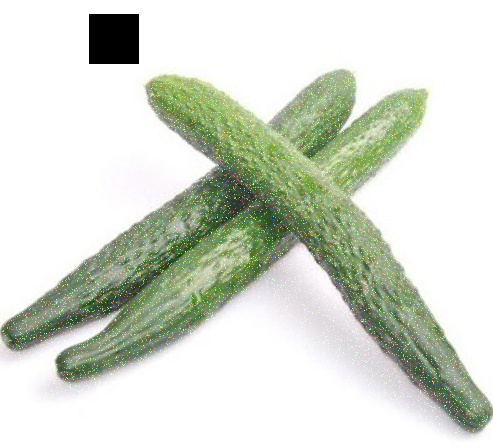cucumber: (150, 73, 488, 423), (66, 87, 428, 384), (3, 71, 351, 336)
